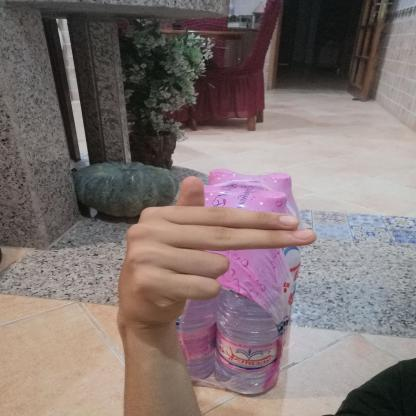GHAYN: (98, 166, 332, 343)
